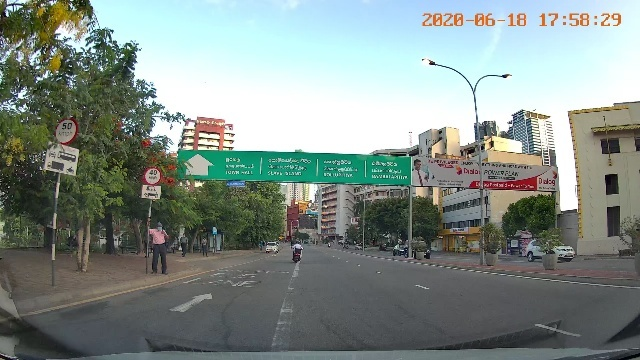BL: (181, 271, 264, 289)
SA: (165, 292, 213, 313)
